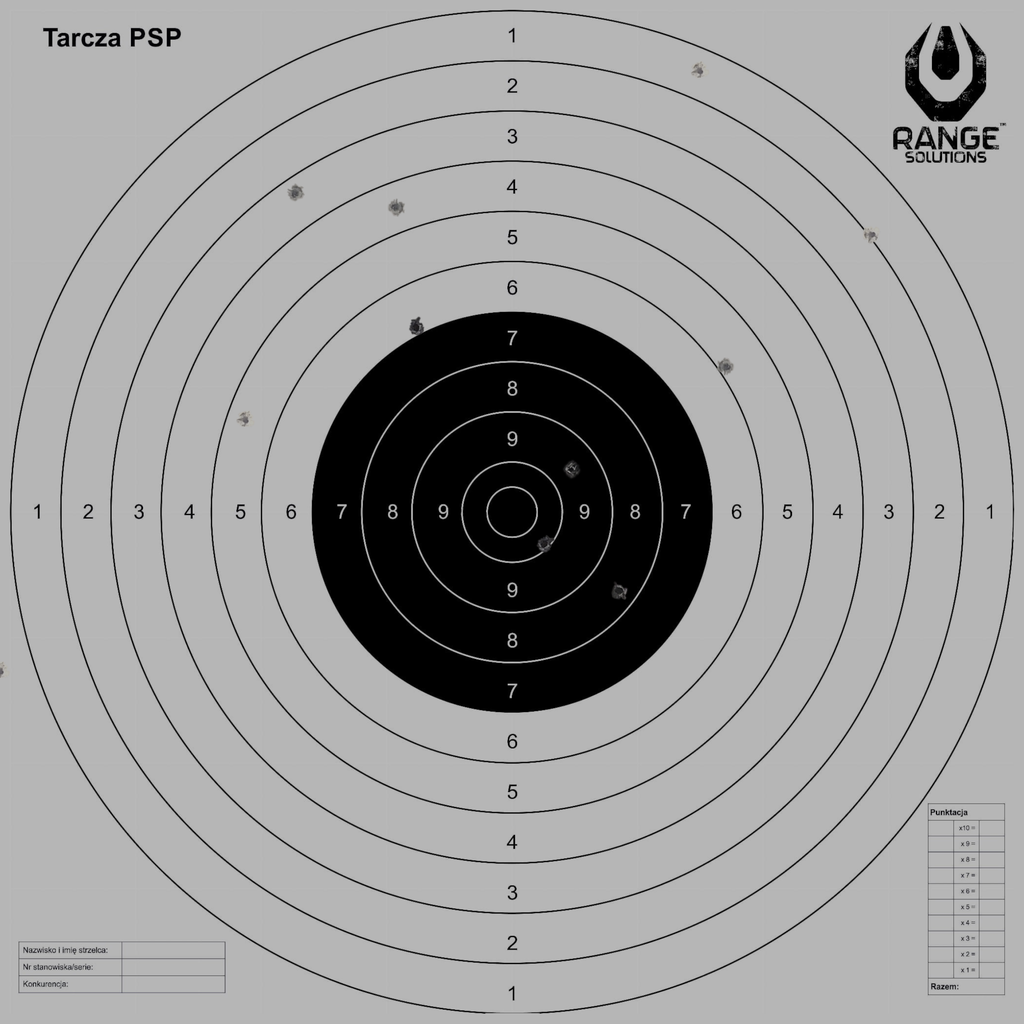0 punktow: (0, 662, 9, 680)
1 punkt: (690, 62, 709, 80)
10 punktow: (535, 535, 554, 553)
2 punkty: (863, 226, 881, 244)
3 punkty: (286, 184, 305, 203)
4 punkty: (386, 198, 405, 217)
5 punktow: (236, 411, 255, 429)
6 punktow: (717, 358, 735, 376)
7 punktow: (407, 318, 425, 337)
8 punktow: (610, 582, 629, 600)
9 punktow: (562, 460, 580, 479)
